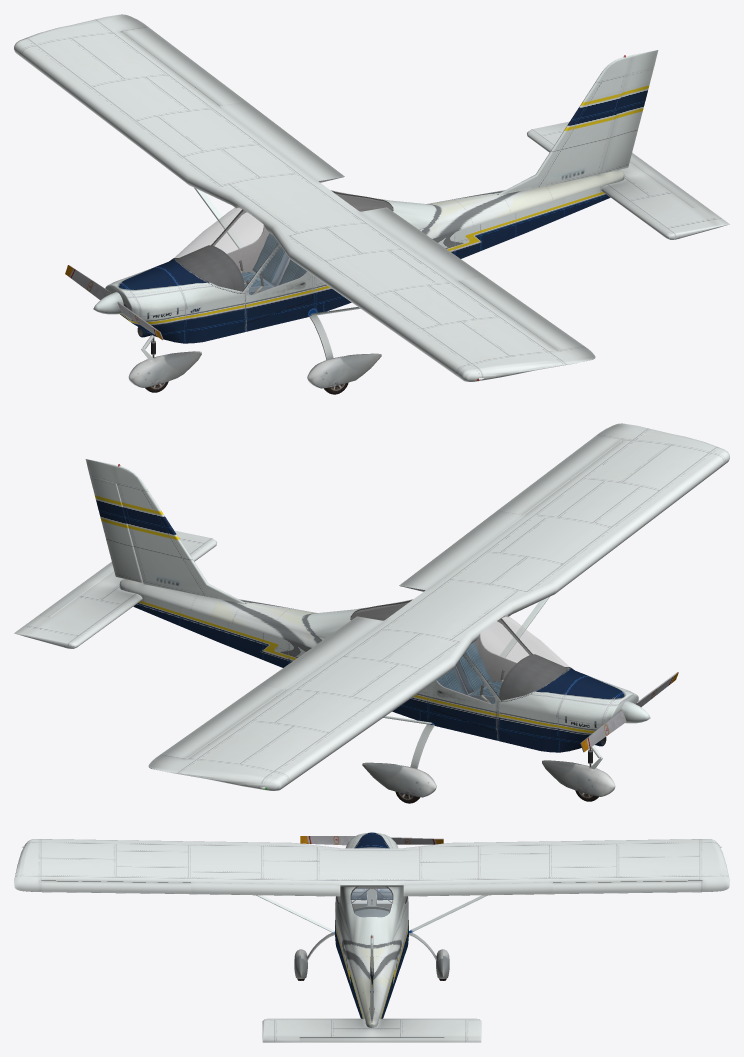
3 views of the same model, one above another, from view 1: azimuth 30°, elevation 25°; view 2: azimuth 150°, elevation 25°; view 3: azimuth 270°, elevation 25° (orthographic). The views are drawn at different scales.
Visible parts, largest first — view 1: Object_36, Object_37, Object_50, Object_38, Object_28, Object_22, Object_32; view 2: Object_36, Object_37, Object_50, Object_38, Object_28, Object_22, Object_32; view 3: Object_36, Object_37, Object_50, Object_38, Object_32, Object_31.
Boxes of the visible parts, box(x1,y1,x2,y2) form: Object_36: box(14, 14, 729, 381); Object_37: box(105, 50, 658, 343); Object_50: box(174, 191, 481, 380); Object_38: box(128, 315, 381, 392); Object_28: box(175, 245, 244, 291); Object_22: box(174, 191, 393, 295); Object_32: box(241, 233, 306, 294); Object_36: box(14, 423, 729, 790); Object_37: box(85, 459, 638, 752); Object_50: box(262, 600, 569, 789); Object_38: box(362, 724, 615, 801); Object_28: box(499, 654, 568, 700); Object_22: box(350, 600, 569, 704); Object_32: box(437, 642, 502, 703); Object_36: box(14, 832, 729, 1042); Object_37: box(256, 832, 487, 1027); Object_50: box(22, 846, 721, 916); Object_38: box(294, 932, 449, 978); Object_32: box(339, 888, 405, 908); Object_31: box(353, 906, 390, 917).
Bounding box in the file's own units: 6.65 × 2.5 × 9.63.
Materials: 40 (34 with a texture image).
